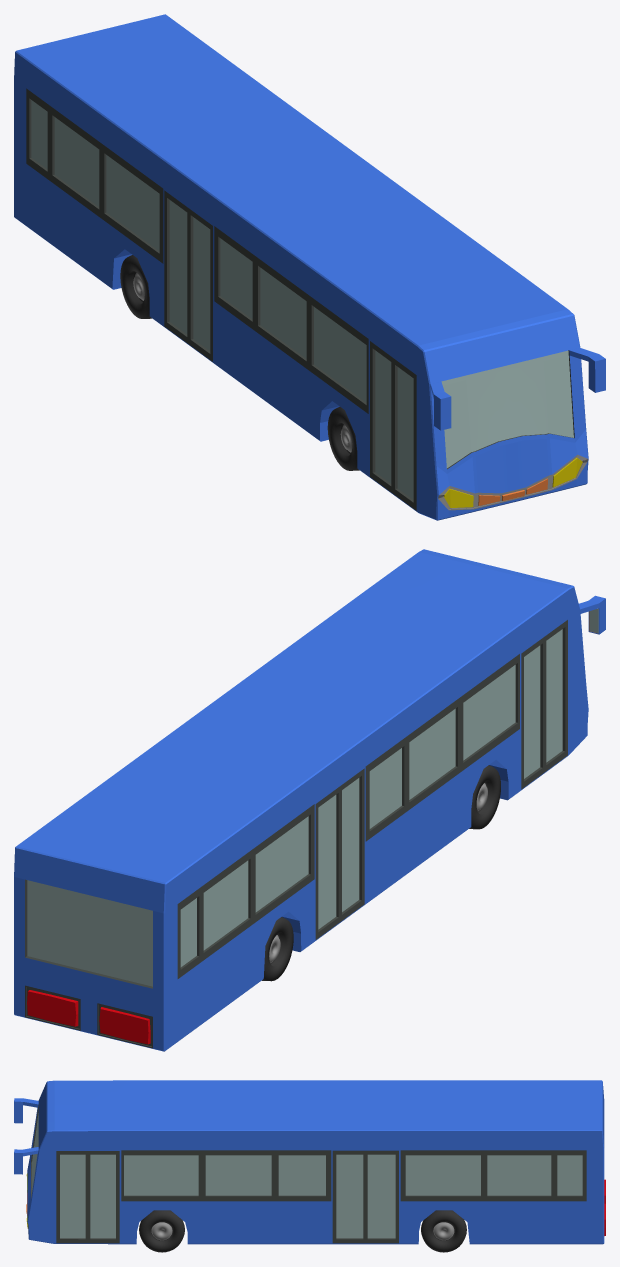
The model's file is Bus (fixed).fbx.
3 views of the same model, one above another, from view 1: azimuth 30°, elevation 25°; view 2: azimuth 150°, elevation 25°; view 3: azimuth 270°, elevation 25° (orthographic). The views are drawn at different scales.
Parts seen in each view (by area): view 1: Cube.001, Tire.006; view 2: Cube.001, Tire.006; view 3: Cube.001, Tire.006.
Part boxes in pixels (left/top/right/bottom): Cube.001: left=14, top=14, right=605, bottom=520; Tire.006: left=120, top=255, right=359, bottom=470; Cube.001: left=14, top=549, right=605, bottom=1051; Tire.006: left=262, top=765, right=500, bottom=981; Cube.001: left=14, top=1080, right=605, bottom=1244; Tire.006: left=139, top=1210, right=466, bottom=1252.
Size of the model in its own units: 152 by 162 by 695.
